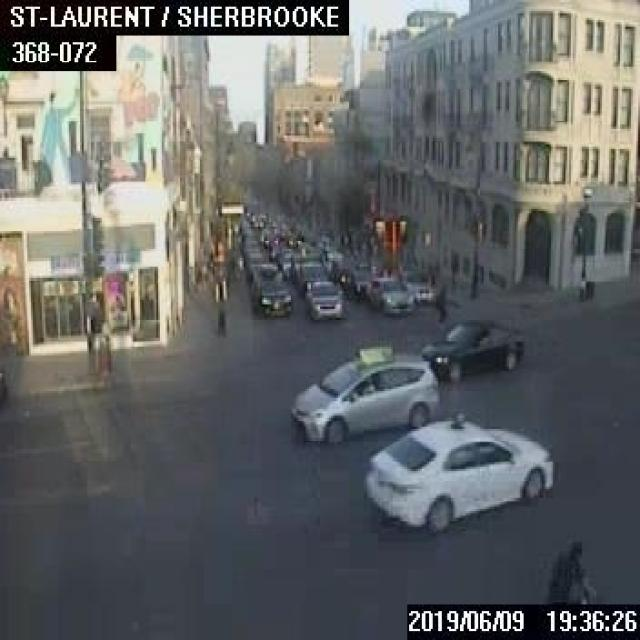cyclist: (542, 540, 594, 600)
pedestrian: (198, 245, 210, 285), (232, 244, 244, 280)
vehicle: (365, 409, 551, 529), (290, 341, 438, 445), (421, 319, 522, 379), (251, 265, 290, 315), (368, 275, 410, 313), (304, 279, 341, 319), (291, 250, 325, 292), (345, 267, 373, 299), (330, 256, 359, 286), (405, 274, 434, 302), (0, 366, 7, 404)
